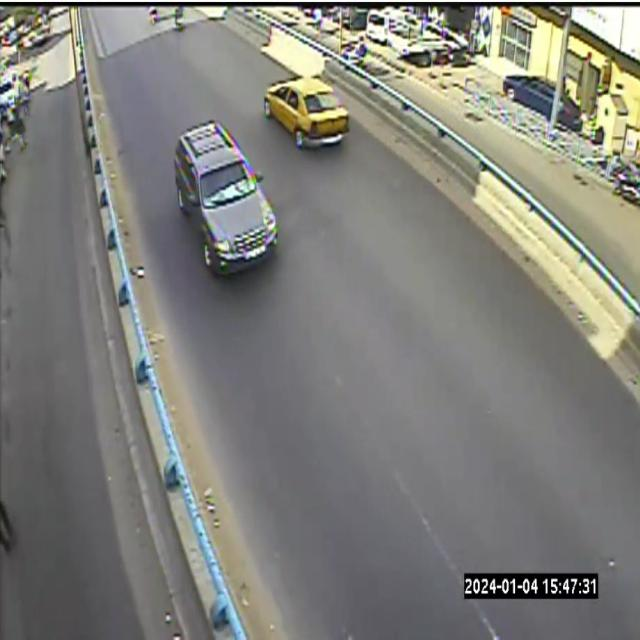car: (174, 118, 278, 275), (264, 78, 349, 147)
